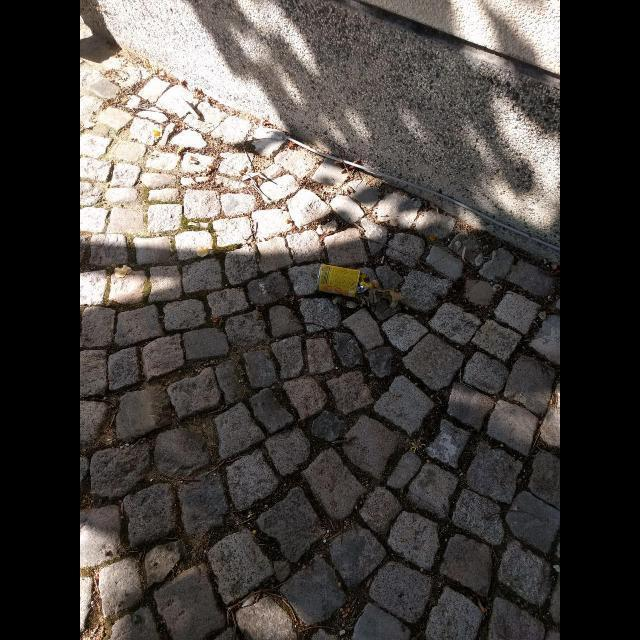Plastic: (358, 274, 374, 294)
